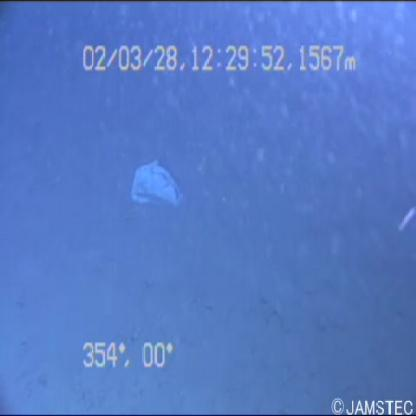Rác: (107, 145, 189, 209)
